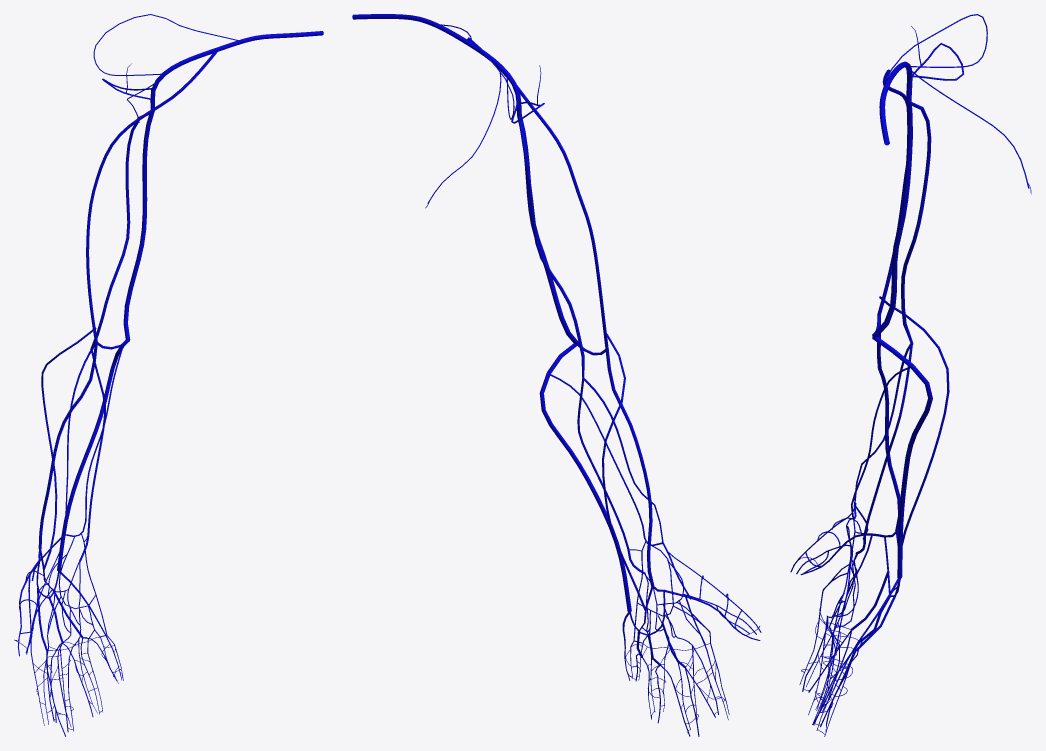
File: Upper limb Veins(2).fbx
3 renders of one model, left to right at view 1: azimuth 30°, elevation 25°; view 2: azimuth 150°, elevation 25°; view 3: azimuth 270°, elevation 25°, orthographic. The views are drawn at different scales.
Parts seen in each view (by area): view 1: Cephalic_br1, Basilic_br1, Axillary, Basilic_br2, Brachial, Cephalic_br2, Accessory_cephalic; view 2: Basilic_br2, Axillary, Cephalic_br1, Brachial, Cephalic_br2, Basilic_br1, Accessory_cephalic; view 3: Basilic_br1, Basilic_br2, Brachial, Axillary, Accessory_cephalic, Cephalic_br2, Ulnar_br1, Cephalic_br1, Median_antebrachial_br1, Radial_br1.
Part boxes in pixels (x1,y1,x2,y2): Cephalic_br1: (86, 50, 217, 342); Basilic_br1: (123, 111, 154, 340); Axillary: (150, 31, 323, 111); Basilic_br2: (57, 340, 129, 571); Brachial: (90, 115, 148, 349); Cephalic_br2: (38, 342, 97, 548); Accessory_cephalic: (41, 327, 96, 569); Basilic_br2: (539, 343, 631, 612); Axillary: (352, 14, 521, 116); Cephalic_br1: (467, 37, 608, 349); Brachial: (518, 117, 584, 379); Cephalic_br2: (605, 349, 654, 586); Basilic_br1: (517, 115, 578, 344); Accessory_cephalic: (602, 333, 645, 610); Basilic_br1: (872, 102, 912, 338); Basilic_br2: (872, 337, 932, 578); Brachial: (901, 102, 931, 344); Axillary: (879, 61, 912, 145); Accessory_cephalic: (879, 296, 949, 545); Cephalic_br2: (877, 314, 900, 532); Ulnar_br1: (864, 343, 912, 534); Cephalic_br1: (877, 69, 912, 315); Median_antebrachial_br1: (851, 367, 910, 519); Radial_br1: (854, 343, 910, 505).
Bounding box in the file's own units: 41.88 × 75.84 × 20.88.
